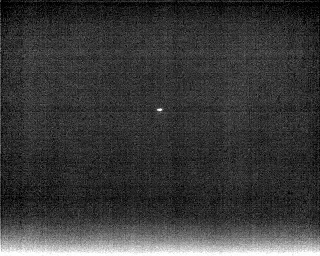BIRD: (155, 105, 164, 114)
